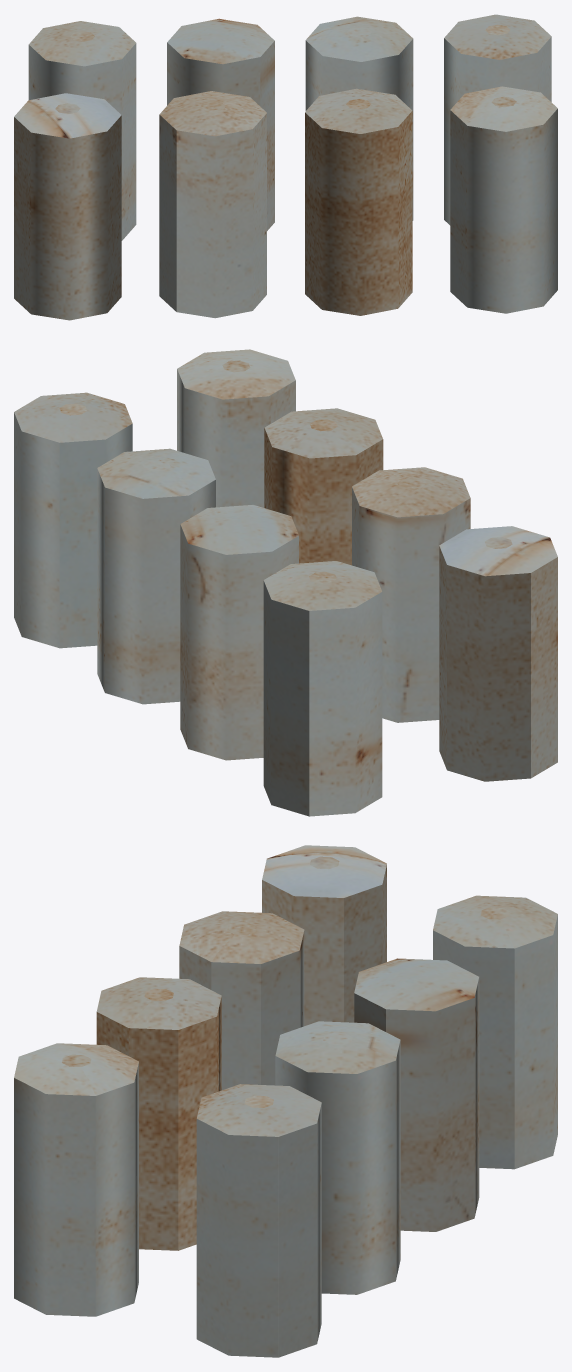
Rendered from youguan_01_09.fbx.
3 views of the same model, one above another, from view 1: azimuth 30°, elevation 25°; view 2: azimuth 150°, elevation 25°; view 3: azimuth 270°, elevation 25° (orthographic). The views are drawn at different scales.
Parts seen in each view (by area): view 1: Youguan_01_09; view 2: Youguan_01_09; view 3: Youguan_01_09.
Boxes of the visible parts, x1,y1,x2,y2 form: Youguan_01_09: (14,14,557,320); Youguan_01_09: (14,349,557,816); Youguan_01_09: (14,845,557,1357).
Size of the model in its own units: 2300 by 844 by 1812.
